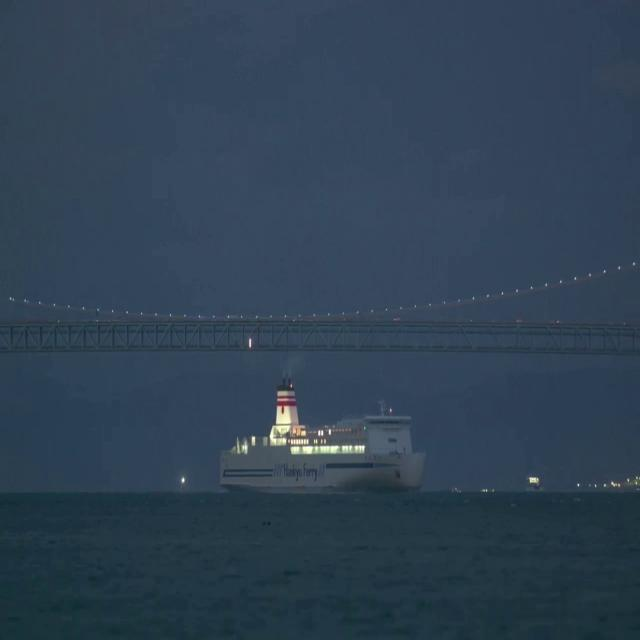OCR: (280, 457, 318, 485)
